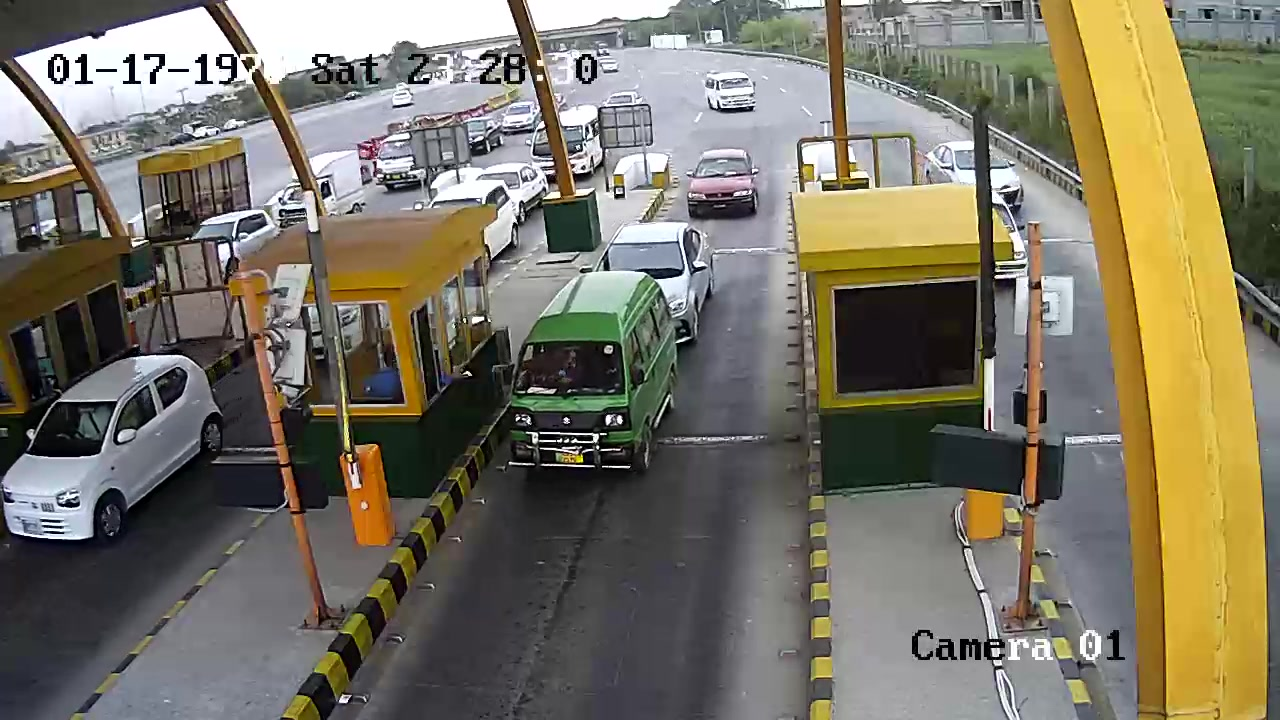F1: (504, 267, 684, 491)
